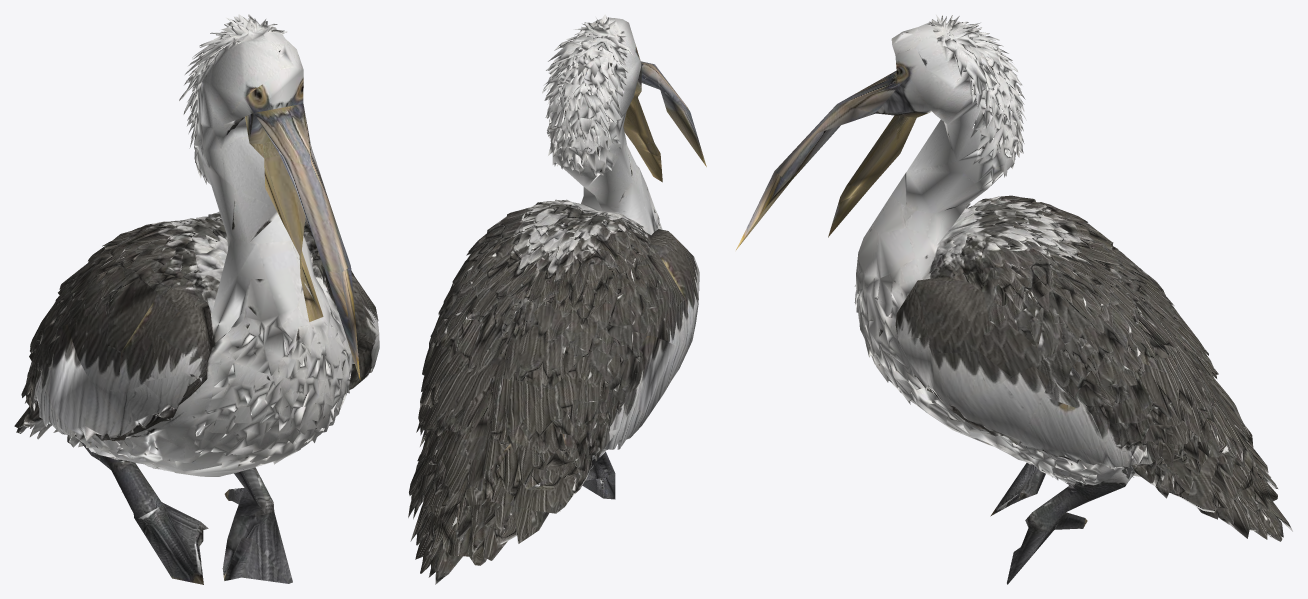
Rendered from pelican.glb.
3 renders of one model, left to right at view 1: azimuth 30°, elevation 25°; view 2: azimuth 150°, elevation 25°; view 3: azimuth 270°, elevation 25°, orthographic. The views are drawn at different scales.
Size of the model in its own units: 0.8369 by 1.85 by 1.74.
1 material, 1 textured.
